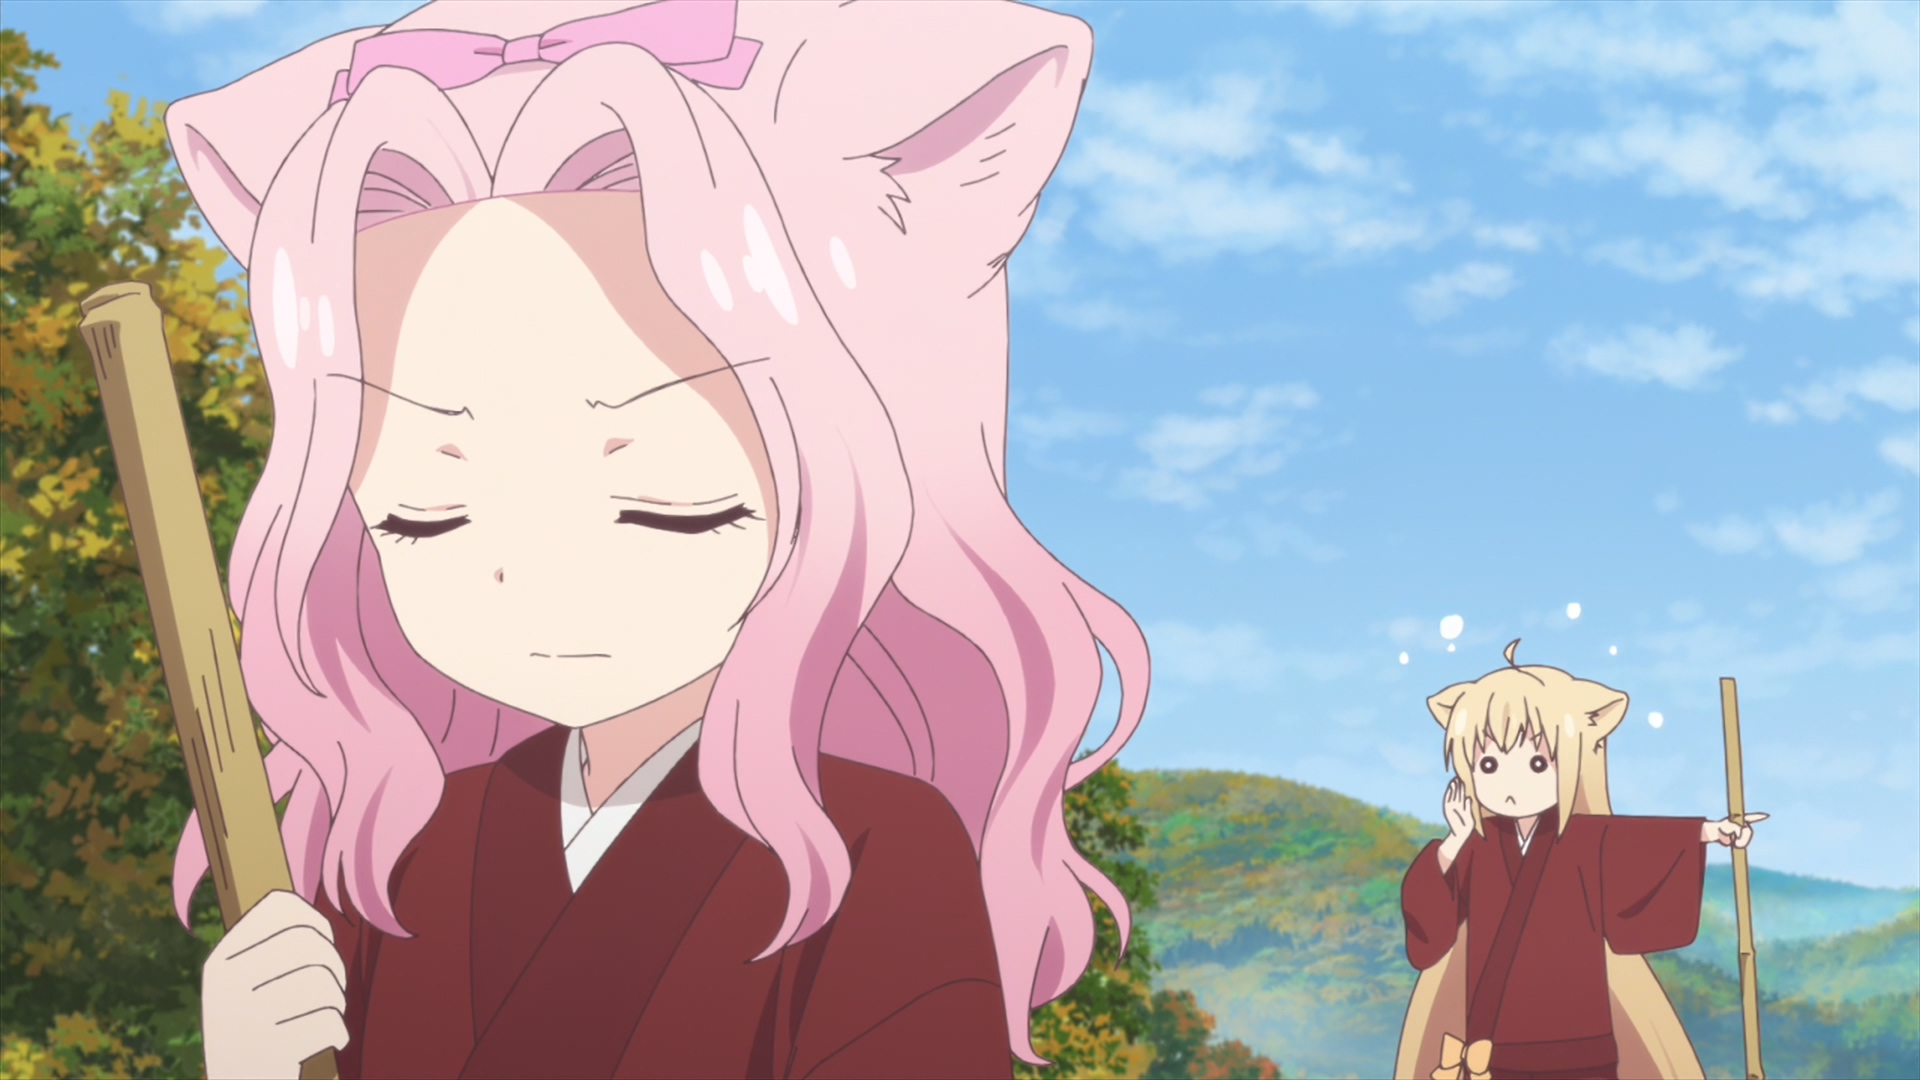柚: (1394, 640, 1768, 1080)
莲: (165, 1, 1151, 1080)
